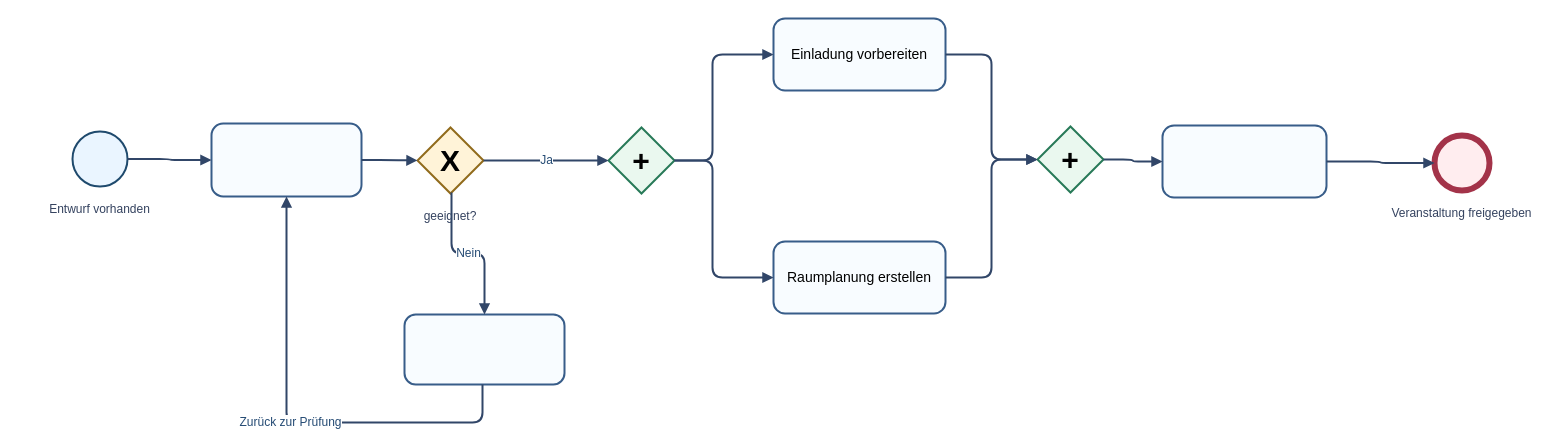
The diagram is 1561 pixels wide and 448 high, and some of its shapes have lost their labels. The centre of each missing label's shape, as x and y in pixels:
"Entwurf prüfen" belongs at pixel 286 159.
"Entwurf überarbeiten" belongs at pixel 484 349.
"Veranstaltung freigeben" belongs at pixel 1244 161.
